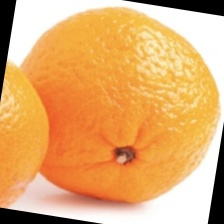orange: (43, 23, 183, 169)
